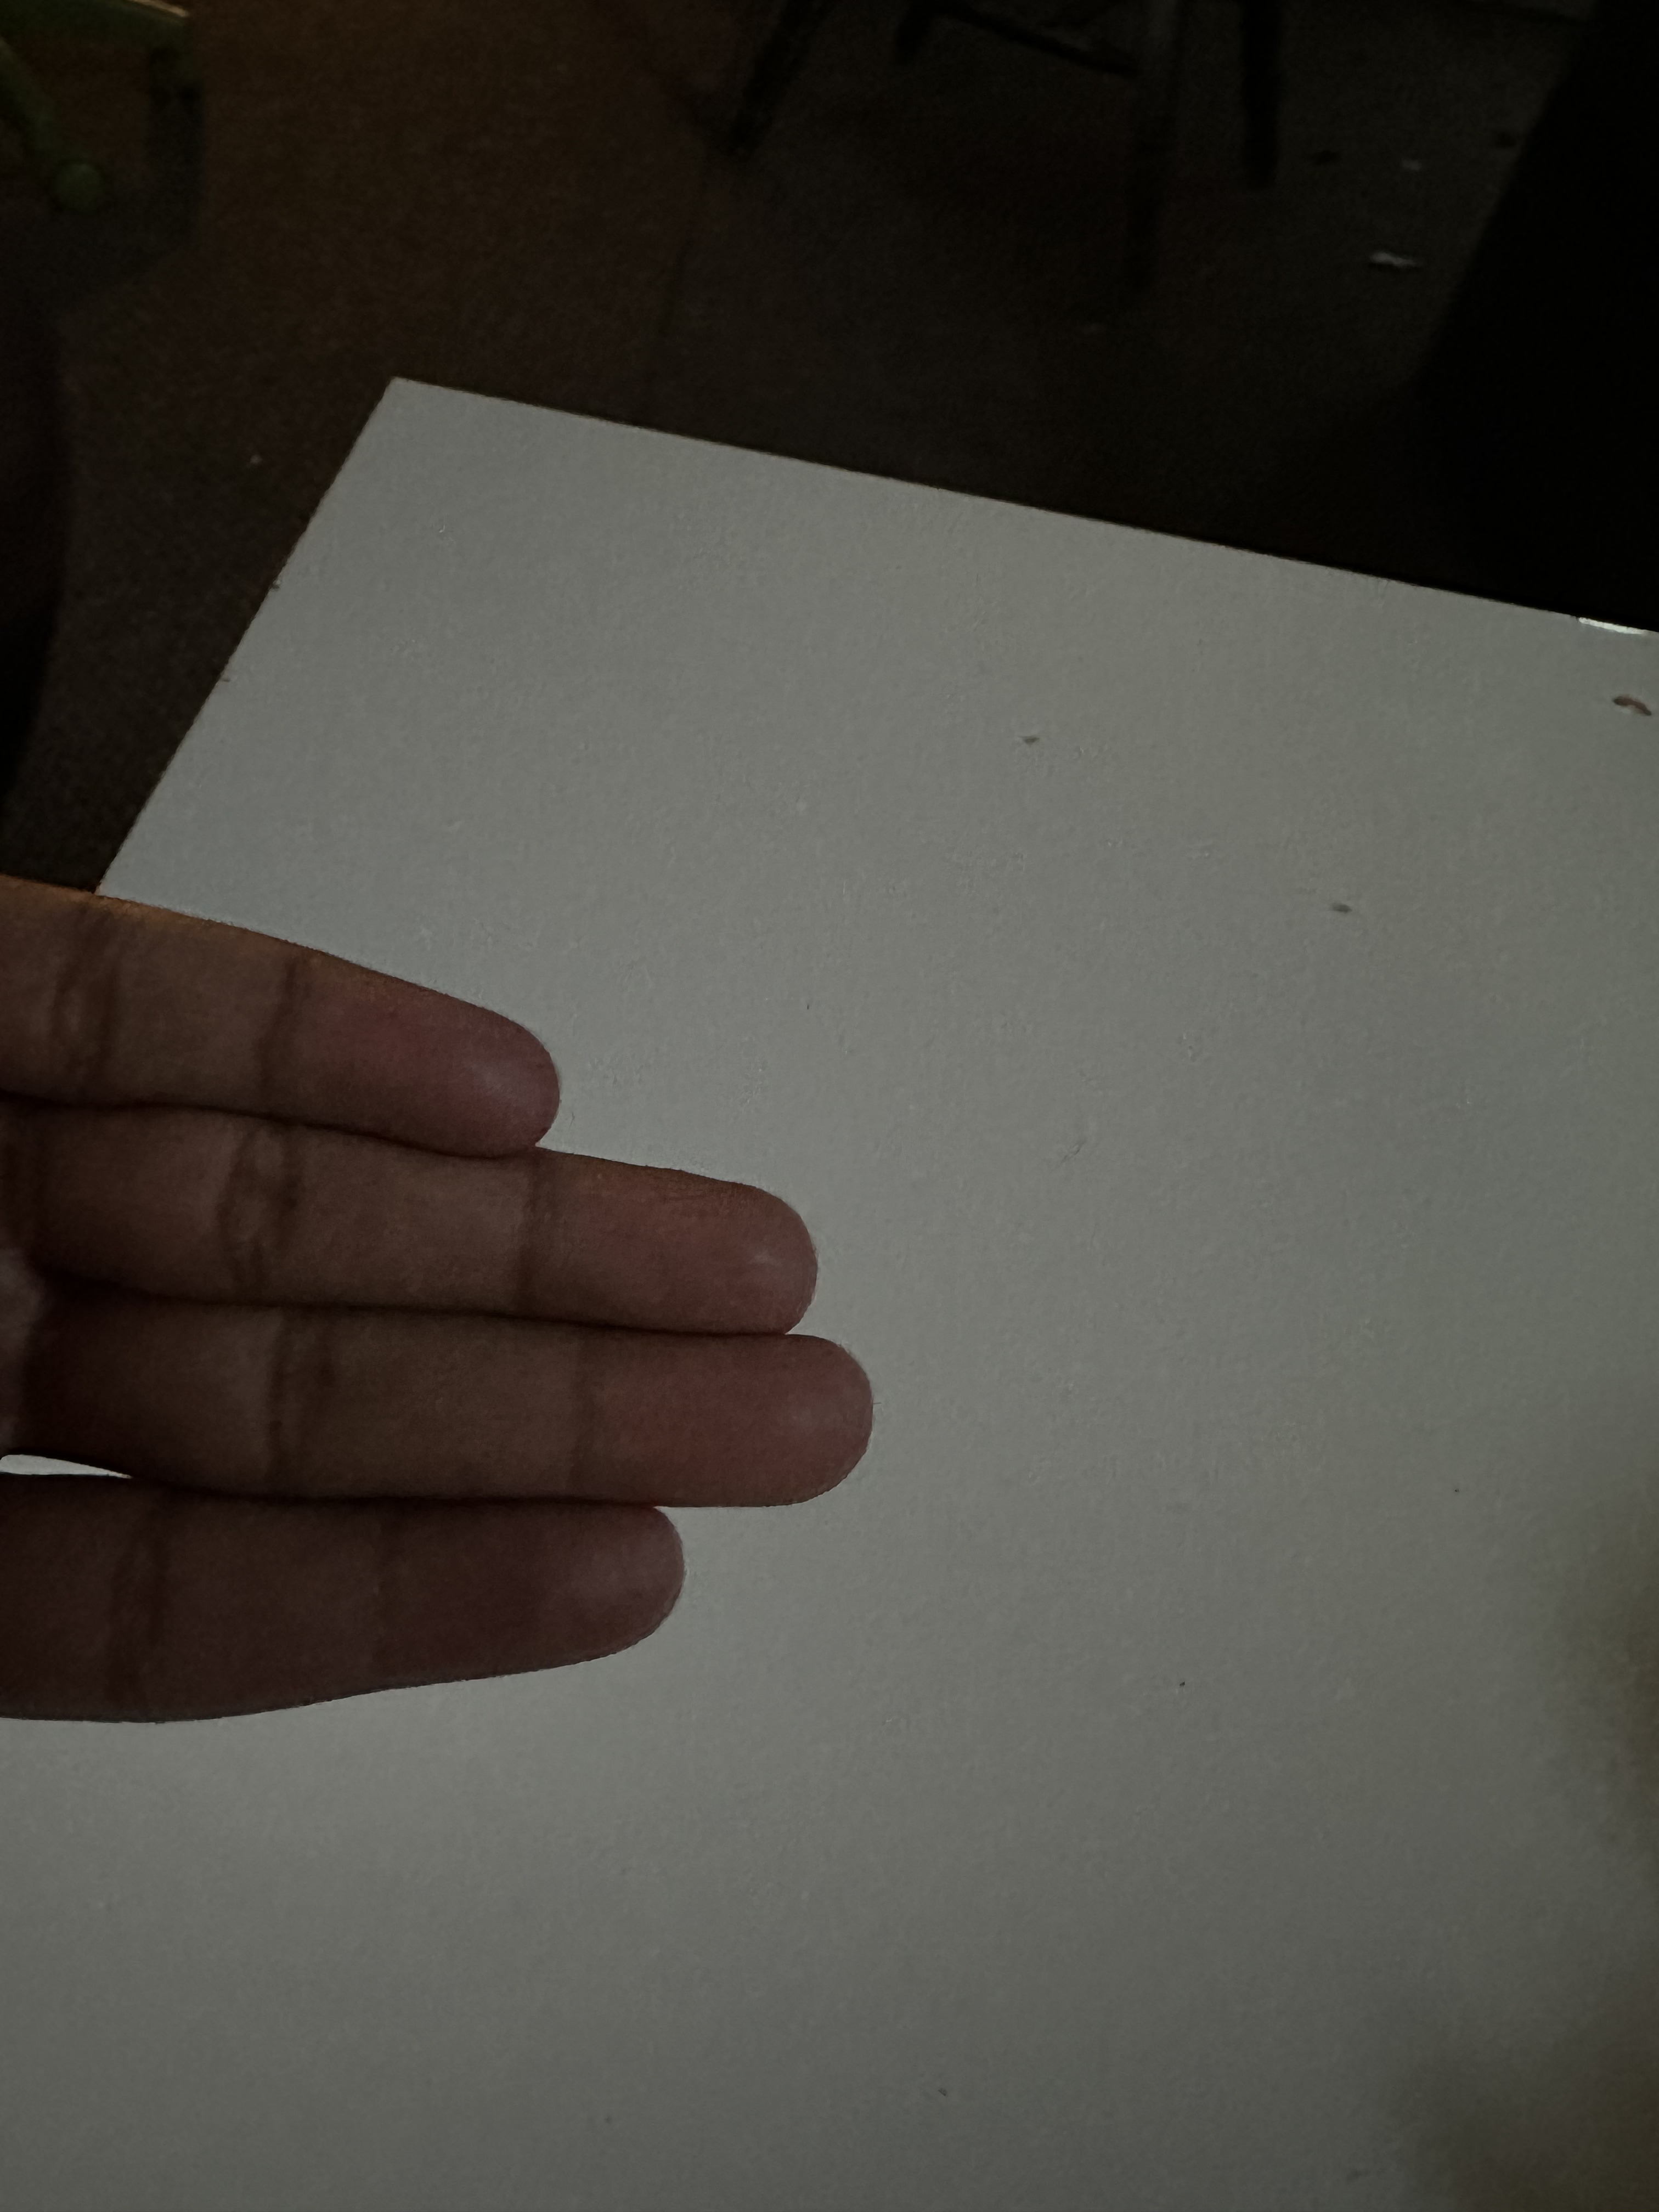finger: (382, 1503, 716, 1683), (289, 968, 599, 1153), (577, 1334, 901, 1510), (538, 1155, 843, 1329)
